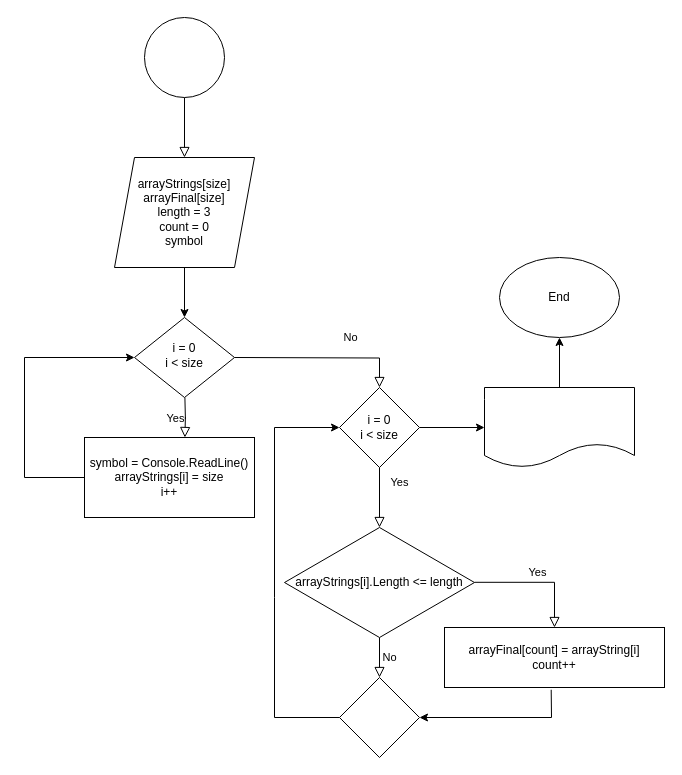
Image size: 682x775. Some labels were removed from this diagram. Here are the shapes that lost their labels. From the top down, the centre of each, then its label:
At (x=184, y=57): "Start".
At (x=559, y=427): "PrintArray(arrayFinal)".
At (x=379, y=717): "i++".
